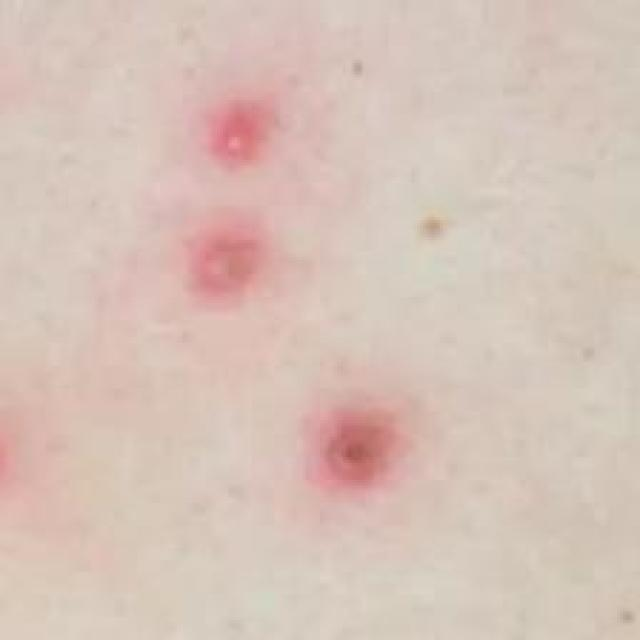monkeypox: (150, 81, 475, 528)
